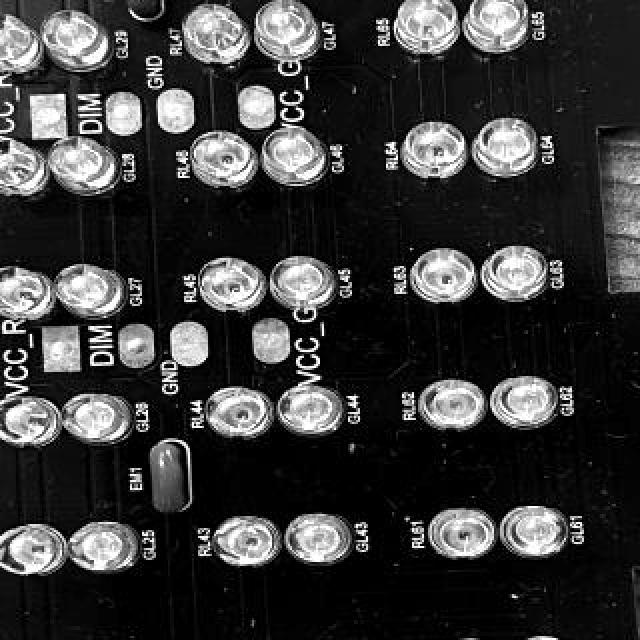EMC filter: (148, 443, 186, 513)
led: (181, 3, 251, 63), (41, 11, 111, 71), (261, 128, 331, 188), (49, 136, 121, 194), (59, 392, 135, 446), (67, 520, 143, 574), (402, 121, 470, 181), (473, 118, 541, 178), (190, 131, 260, 189), (54, 263, 126, 319), (255, 0, 321, 60), (482, 245, 550, 301), (410, 248, 478, 304), (212, 515, 282, 569), (394, 0, 460, 56), (270, 256, 338, 310), (198, 257, 266, 311), (492, 375, 558, 429), (276, 384, 344, 436), (205, 386, 273, 438), (0, 524, 68, 576), (464, 0, 530, 52), (286, 513, 352, 565), (421, 379, 487, 429), (430, 509, 496, 559), (0, 264, 56, 320), (0, 396, 62, 446), (502, 507, 566, 555), (0, 138, 50, 196), (0, 14, 44, 72)
